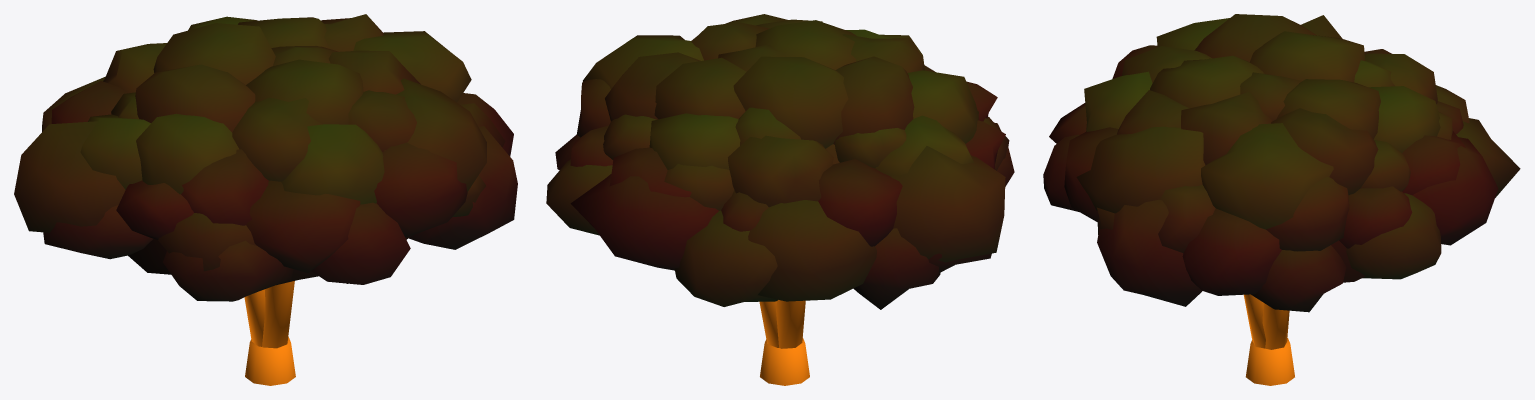
Rendered from Oak_A.fbx.
The picture shows the model from 3 angles, left to right: view 1: azimuth 30°, elevation 25°; view 2: azimuth 150°, elevation 25°; view 3: azimuth 270°, elevation 25°; orthographic projection. The views are drawn at different scales.
Parts seen in each view (by area): view 1: Oak_A; view 2: Oak_A; view 3: Oak_A.
Part boxes in pixels (box(x1,y1,x2,y2)): Oak_A: box(14, 14, 517, 385); Oak_A: box(546, 14, 1014, 385); Oak_A: box(1043, 14, 1520, 385).
Size of the model in its own units: 12.33 by 8.82 by 11.79.
